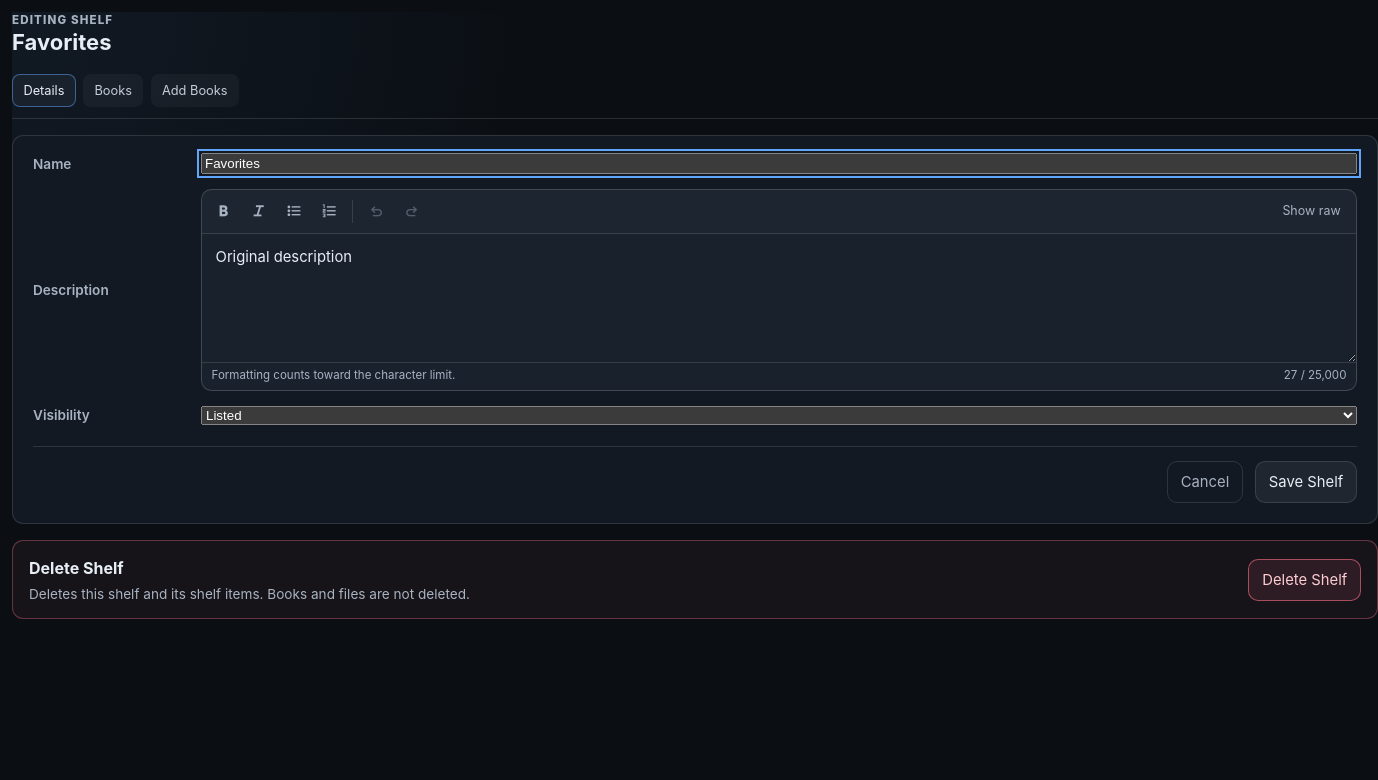
ShelfEditOrchestrator metadata and deletion › remains on the Shelf and keeps its state when deletion fails
Click the button "Delete Shelf" at (1305, 580), box [1248,559,1361,601]
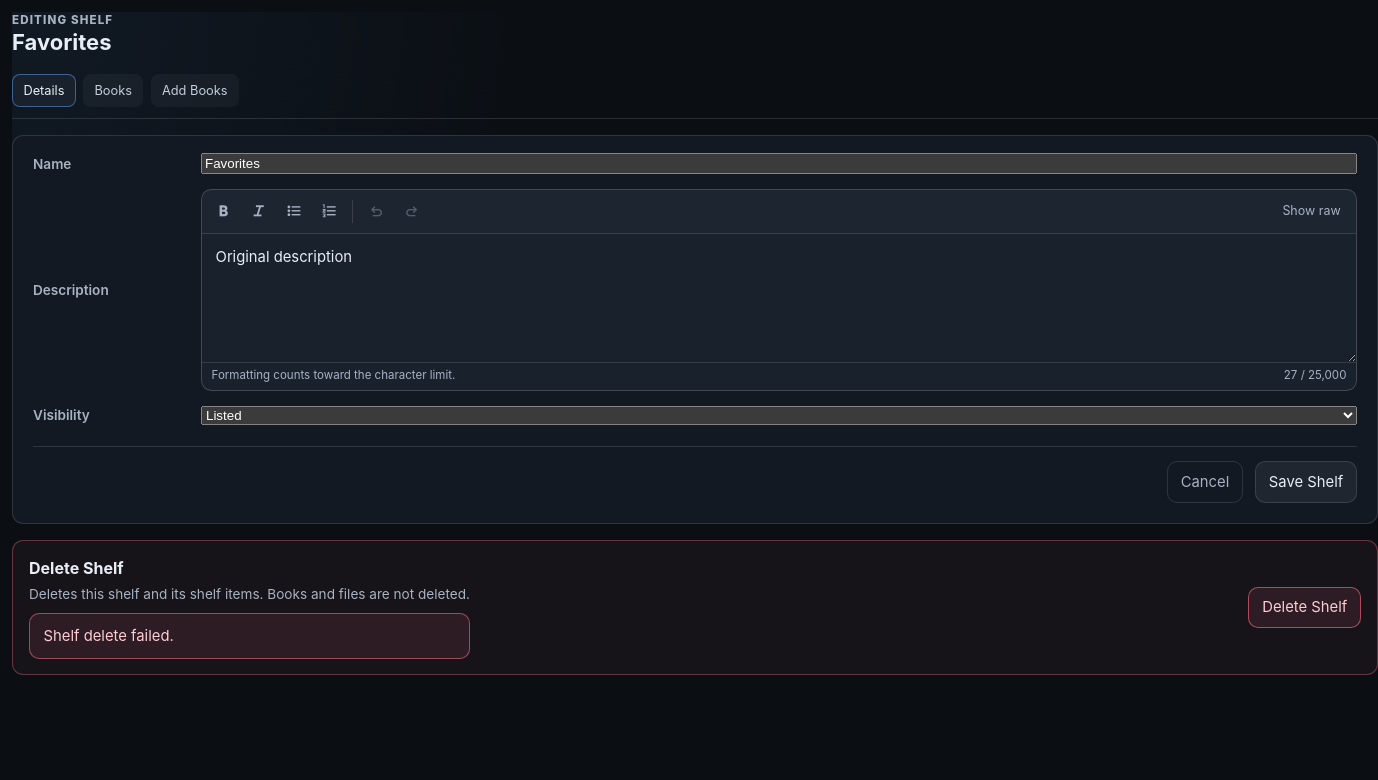
expect the field with id "shelf-name" holds "Favorites": met, box [201,153,1357,174]
expect the message "Shelf delete failed." is shown: met, box [29,613,470,659]
